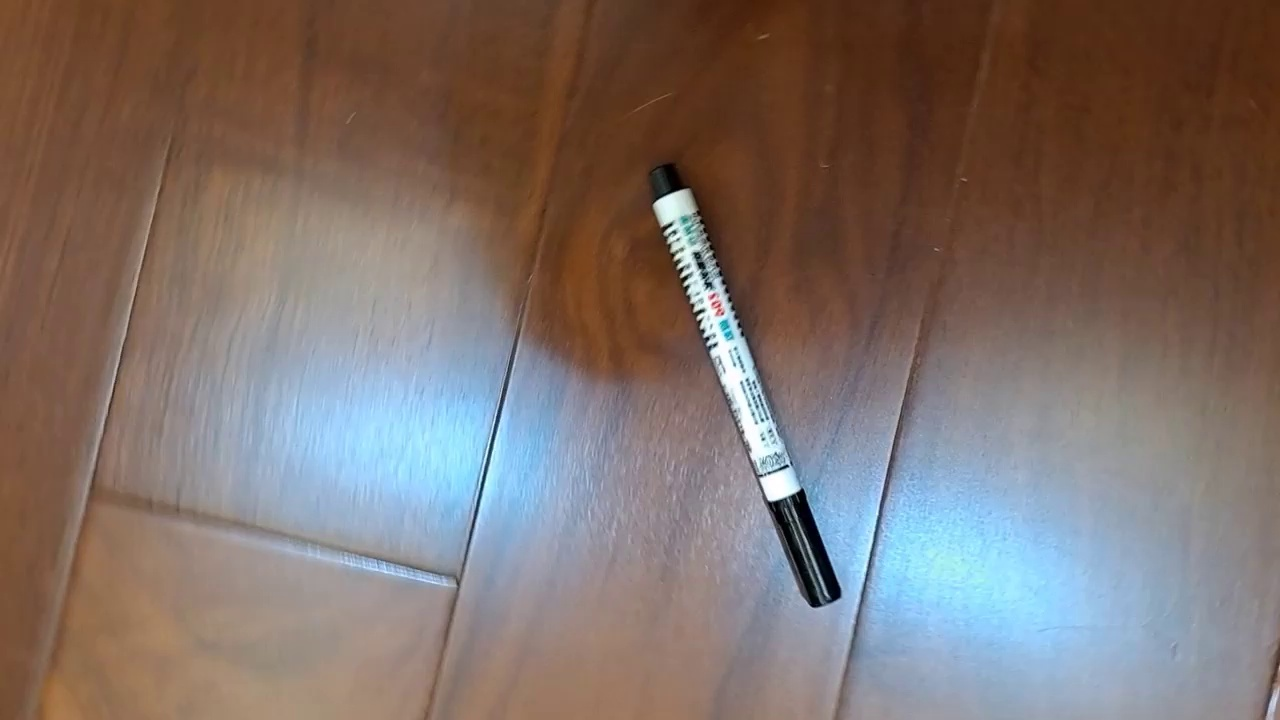pen: (646, 162, 843, 609)
